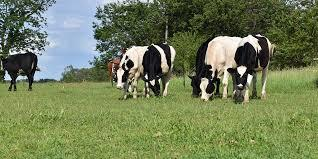cow: (112, 42, 177, 101), (198, 35, 247, 102), (227, 33, 272, 104), (186, 36, 221, 98), (0, 51, 38, 91)
